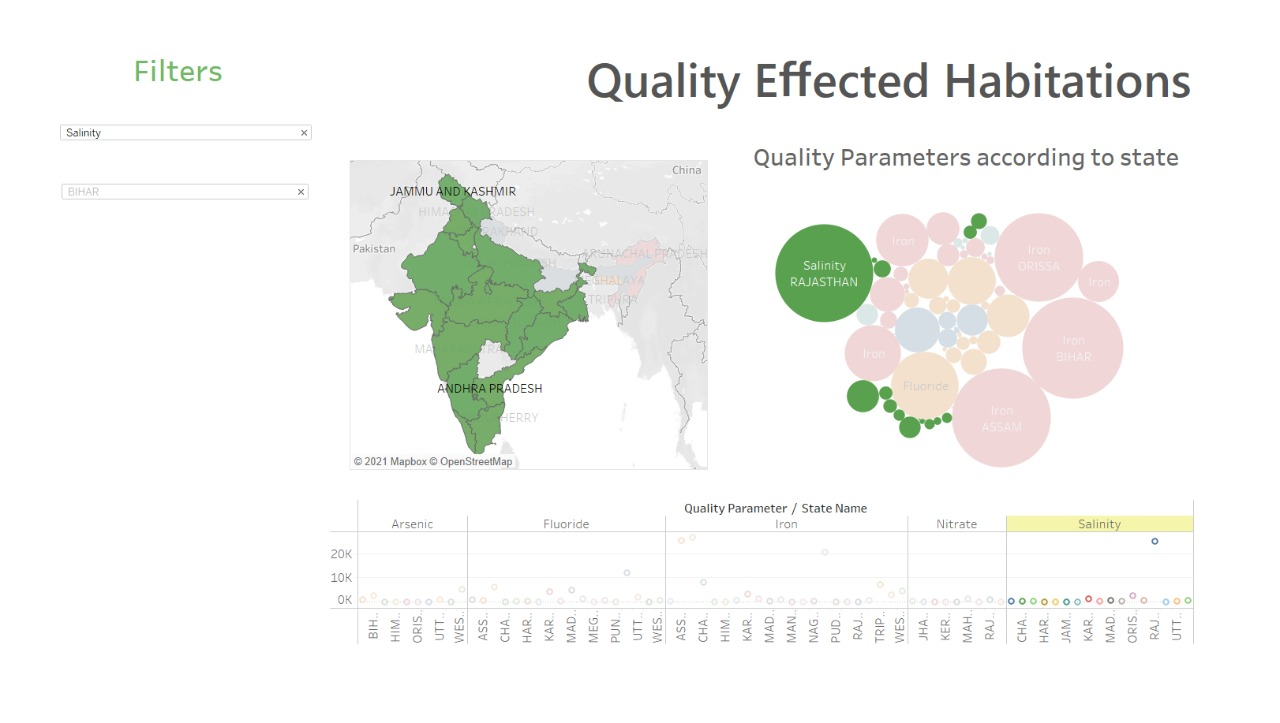

This screenshot's page, from the dashboard's own definition file:
{"tool":"tableau","page":{"name":"Dashboard 1","canvas":[1500,800],"ordinal":0},"visuals":[{"type":"worksheet","box":[0,0,1500,800]},{"type":"worksheet","param":"horz","box":[8,8,1484,784]},{"type":"worksheet","param":"horz","box":[8,8,1484,784]},{"type":"worksheet","param":"horz","box":[8,8,1484,784]},{"type":"worksheet","box":[8,8,1484,784]},{"type":"worksheet","box":[38,19,330,758]},{"type":"worksheet","box":[413,20,1074,63]},{"type":"worksheet","box":[40,28,326,64]},{"type":"worksheet","box":[718,86,164,32]},{"type":"worksheet","title":"Sheet 1","mark":"Multipolygon","param":"[federated.176jdgx1gr8fd319z43dm00td251].[none:Quality Parameter:nk]","box":[47,105,318,71]},{"type":"worksheet","title":"Sheet 1","mark":"Multipolygon","param":"[federated.176jdgx1gr8fd319z43dm00td251].[none:State Name:nk]","box":[51,156,312,50]},{"type":"worksheet","title":"Sheet 1","mark":"Multipolygon","box":[417,160,454,408]},{"type":"worksheet","box":[907,176,563,43]},{"type":"worksheet","title":"Sheet 2","mark":"Circle","box":[888,225,578,340]},{"type":"worksheet","box":[41,253,318,476]},{"type":"worksheet","title":"Sheet 3","mark":"Shape","cols":["Quality Parameter","State Name"],"box":[392,591,1095,199]}]}

Visuals, with their boxes on the page's 1500x800 design canvas (x1, y1, x2, y2). These are canvas units, not pixel positions in the 1280x723 screenshot, which may show the page scaled, cropped or inside an application window:
worksheet: crop(0, 0, 1500, 800)
worksheet: crop(8, 8, 1492, 792)
worksheet: crop(8, 8, 1492, 792)
worksheet: crop(8, 8, 1492, 792)
worksheet: crop(8, 8, 1492, 792)
worksheet: crop(38, 19, 368, 777)
worksheet: crop(413, 20, 1487, 83)
worksheet: crop(40, 28, 366, 92)
worksheet: crop(718, 86, 882, 118)
"Sheet 1" worksheet (Multipolygon marks): crop(47, 105, 365, 176)
"Sheet 1" worksheet (Multipolygon marks): crop(51, 156, 363, 206)
"Sheet 1" worksheet (Multipolygon marks): crop(417, 160, 871, 568)
worksheet: crop(907, 176, 1470, 219)
"Sheet 2" worksheet (Circle marks): crop(888, 225, 1466, 565)
worksheet: crop(41, 253, 359, 729)
"Sheet 3" worksheet (Shape marks): crop(392, 591, 1487, 790)
